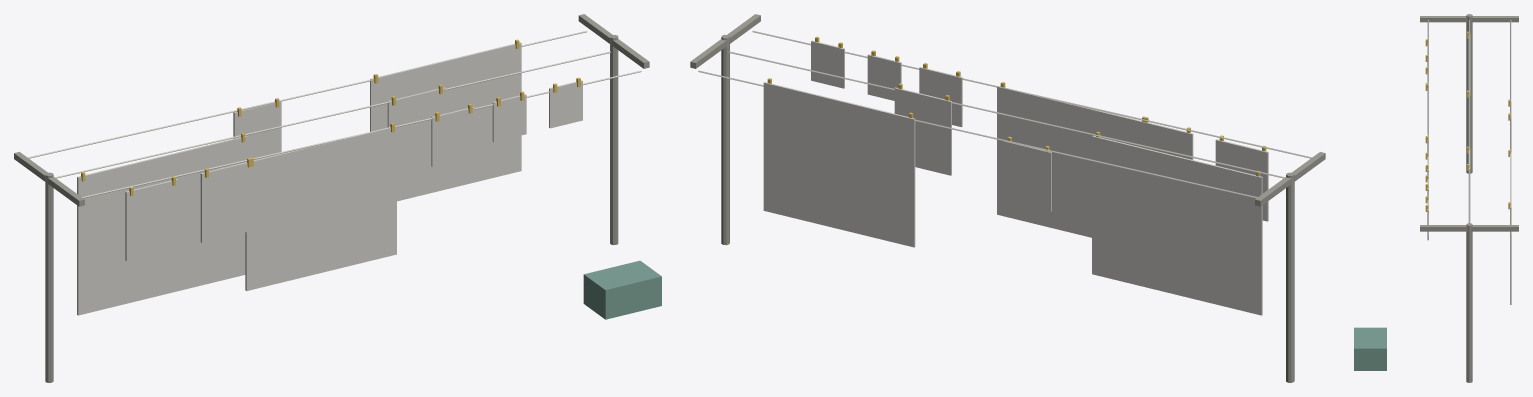
Rendered from trailer_clothesline.glb.
3 renders of one model, left to right at view 1: azimuth 30°, elevation 25°; view 2: azimuth 150°, elevation 25°; view 3: azimuth 270°, elevation 25°, orthographic. The views are drawn at different scales.
Visible parts, largest first — view 1: trailer_clothesline; view 2: trailer_clothesline; view 3: trailer_clothesline.
Part boxes in pixels (x1=…): trailer_clothesline: x1=14, y1=14, x2=661, y2=382; trailer_clothesline: x1=690, y1=14, x2=1325, y2=382; trailer_clothesline: x1=1354, y1=14, x2=1518, y2=382.
Bounding box in the file's own units: 6.08 × 2.1 × 2.
